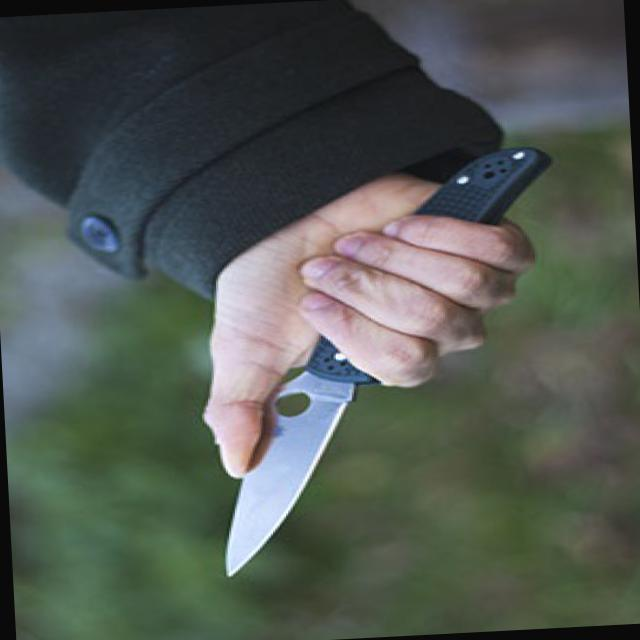knife: (187, 296, 463, 588)
